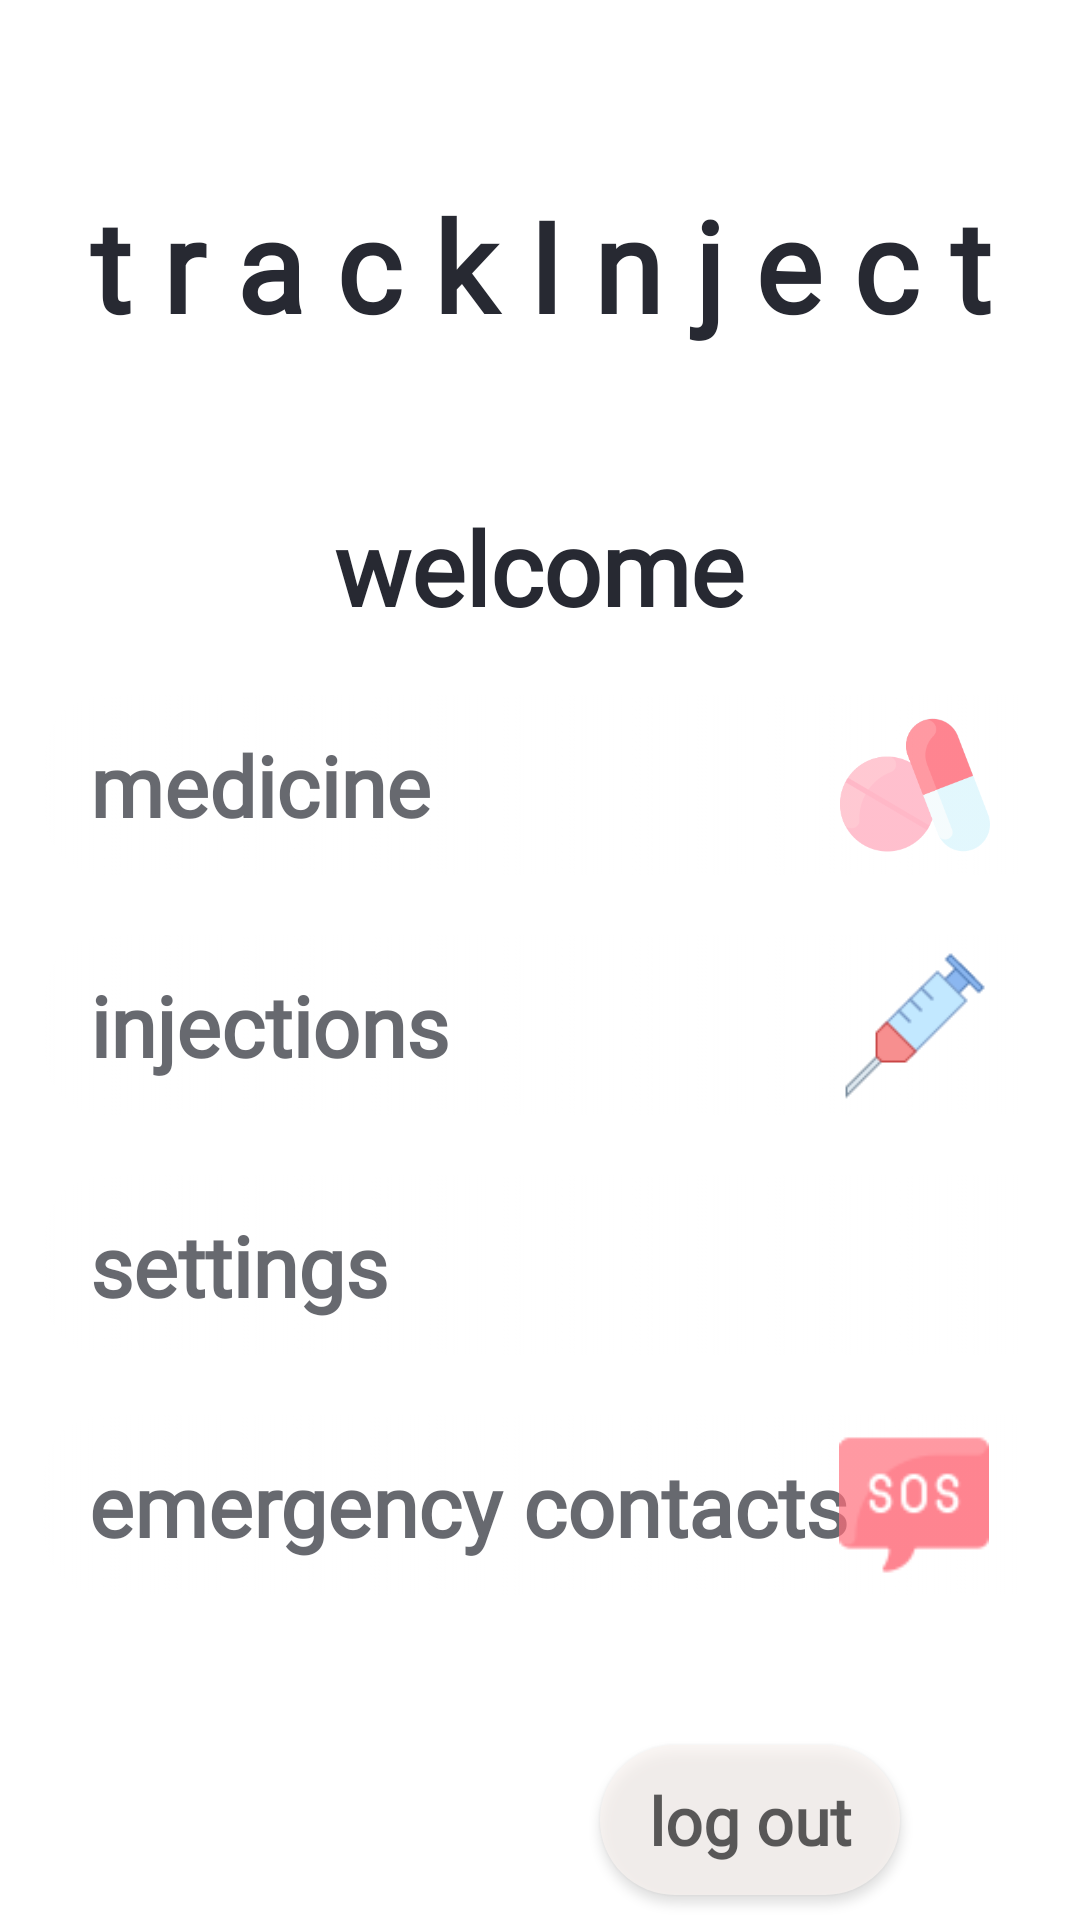

Named icons in this screenshot (1080w x 1920h) and their bounding boxes, bbox=[x1, y1, x2, y2]:
pills: bbox=[840, 719, 990, 852]
syringe: bbox=[845, 953, 985, 1098]
